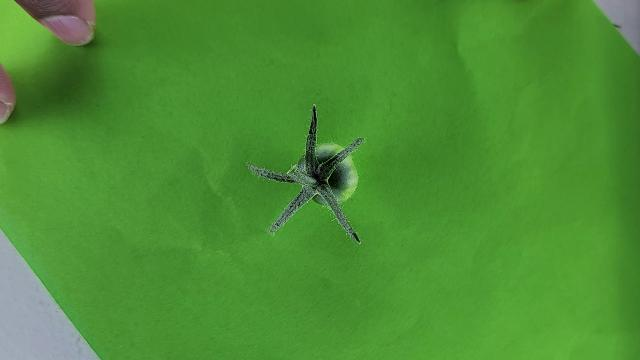Fruit Maturation: (296, 141, 361, 207)
